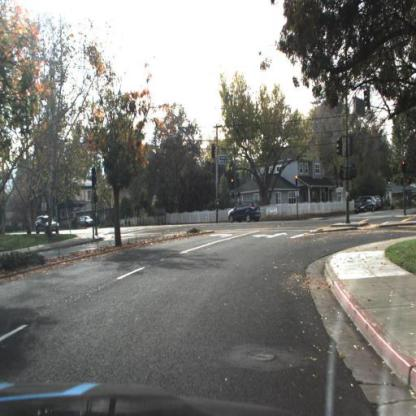car: (228, 201, 263, 226), (34, 213, 61, 238), (355, 198, 377, 216), (79, 215, 95, 229)
trafficLight: (295, 175, 299, 187)
trafficLight-Red: (402, 160, 407, 174), (230, 178, 235, 188)
